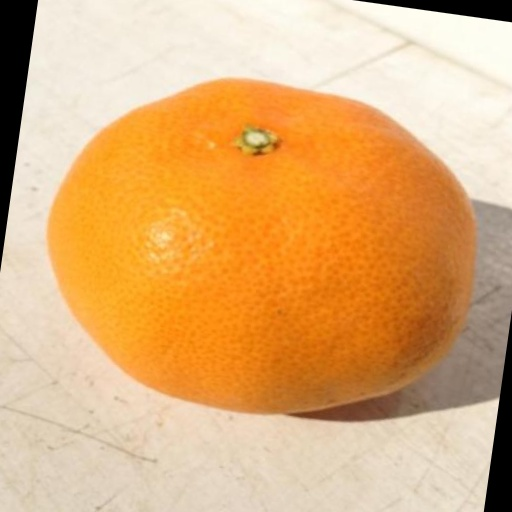fruit: (48, 80, 475, 413)
